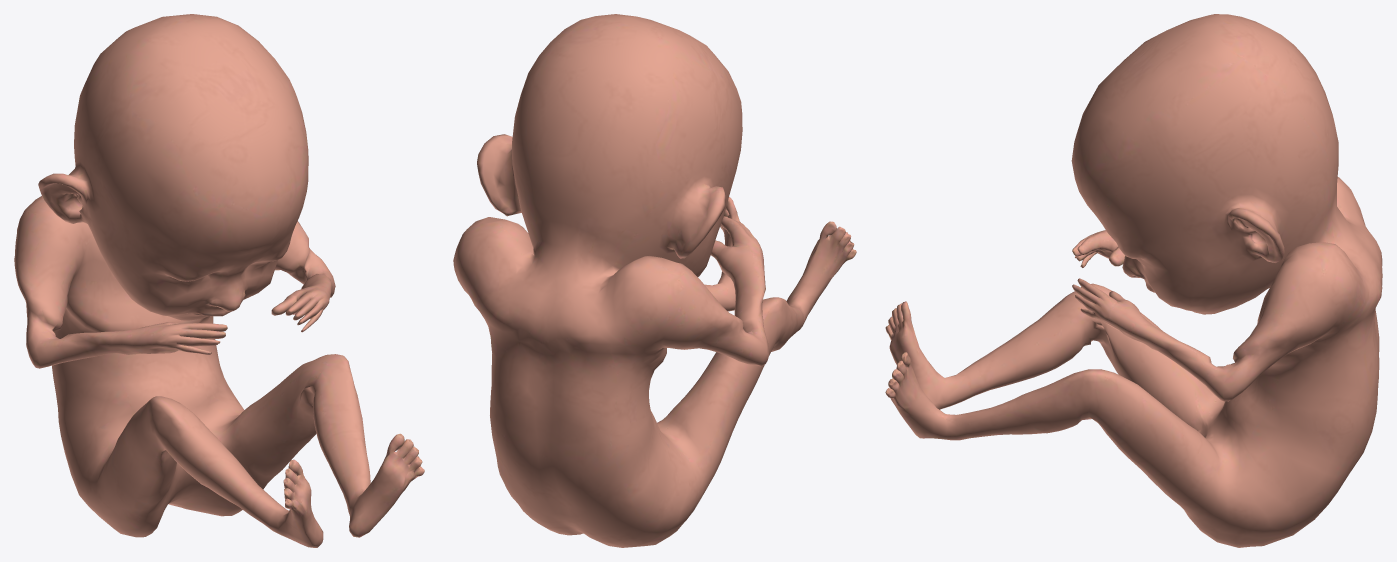
3 views of the same model, side by side, from view 1: azimuth 30°, elevation 25°; view 2: azimuth 150°, elevation 25°; view 3: azimuth 270°, elevation 25° (orthographic).
Visible parts, largest first — view 1: Baby; view 2: Baby; view 3: Baby.
Boxes of the visible parts, x1=… form: Baby: x1=14, y1=14, x2=424, y2=547; Baby: x1=453, y1=14, x2=856, y2=547; Baby: x1=885, y1=14, x2=1382, y2=547.
Bounding box in the file's own units: 0.1192 × 0.1913 × 0.1721.
1 material, 1 textured.
